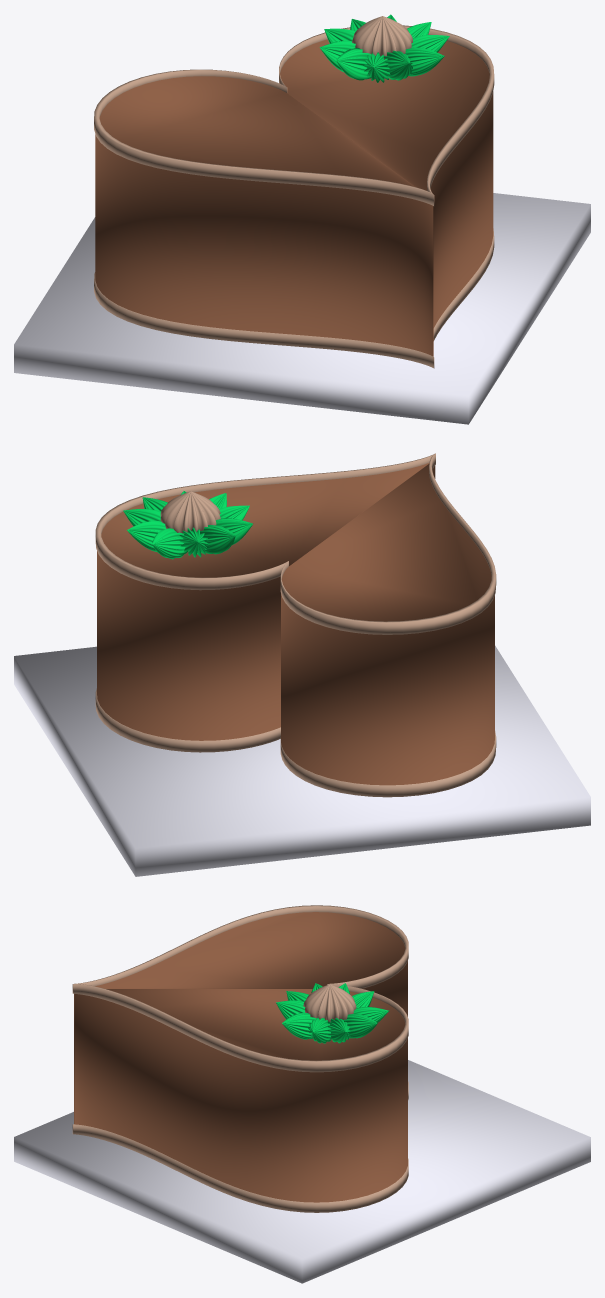
Rendered from heart_chocolate_style3.glb.
The picture shows the model from 3 angles, top to bottom: view 1: azimuth 30°, elevation 25°; view 2: azimuth 150°, elevation 25°; view 3: azimuth 270°, elevation 25°; orthographic projection. The views are drawn at different scales.
Parts seen in each view (by area): view 1: HeartCake, IcingStand, IcingRing, IcingRing.001, leaf, design1; view 2: HeartCake, IcingStand, IcingRing, IcingRing.001, leaf, design1; view 3: HeartCake, IcingStand, IcingRing, IcingRing.001, leaf, design1.
Part boxes in pixels (x1,y1,x2,y2): HeartCake: (95, 39, 493, 356); IcingStand: (14, 193, 590, 424); IcingRing: (94, 25, 494, 206); IcingRing.001: (94, 228, 494, 368); leaf: (319, 14, 449, 82); design1: (352, 16, 412, 59); HeartCake: (97, 463, 494, 785); IcingStand: (14, 645, 590, 876); IcingRing: (95, 453, 496, 634); IcingRing.001: (95, 688, 496, 797); leaf: (123, 491, 252, 559); design1: (160, 491, 220, 533); HeartCake: (74, 912, 407, 1202); IcingStand: (14, 1060, 590, 1283); IcingRing: (72, 905, 408, 1072); IcingRing.001: (72, 1081, 408, 1212); leaf: (276, 983, 389, 1043); design1: (303, 984, 356, 1021).
Bounding box in the file's own units: 4.24 × 1.77 × 4.24.
